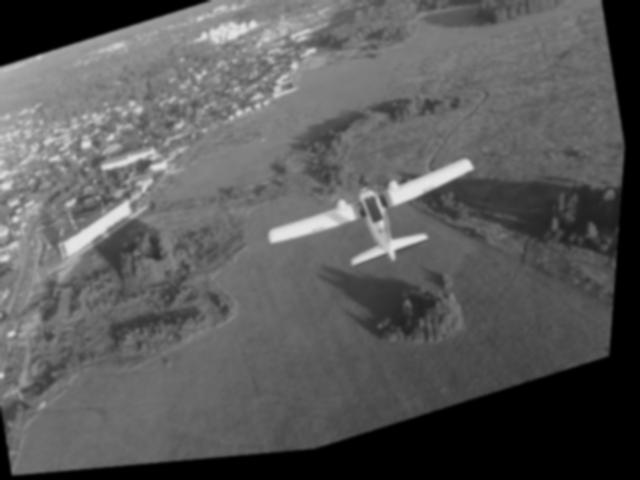hedef: (258, 148, 498, 309)
